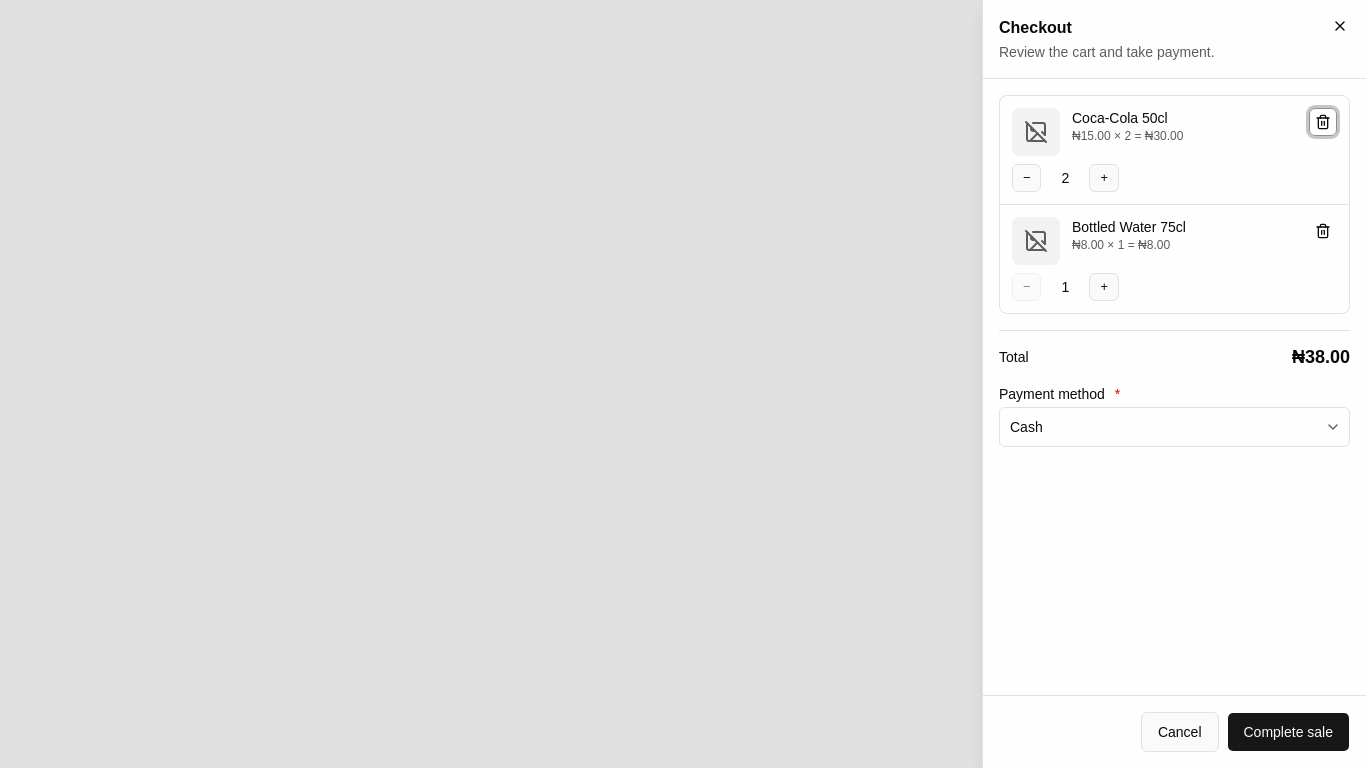
Test case: CheckoutDrawer › puts a payment account error on the account field
Click the dropdown named "Payment method".
click(1026, 427)  # box [999, 407, 1350, 447]
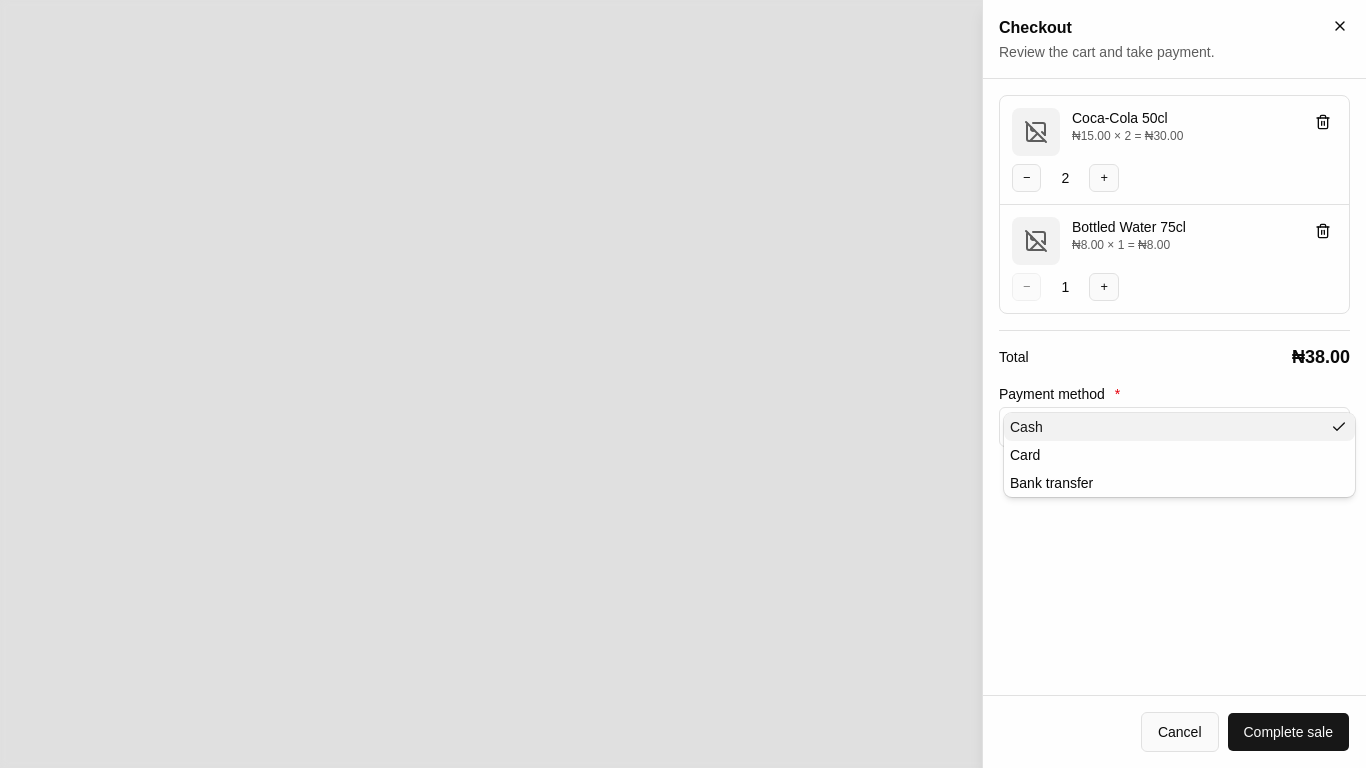
Click the option "Card".
click(1025, 455)  # box [1010, 447, 1040, 463]
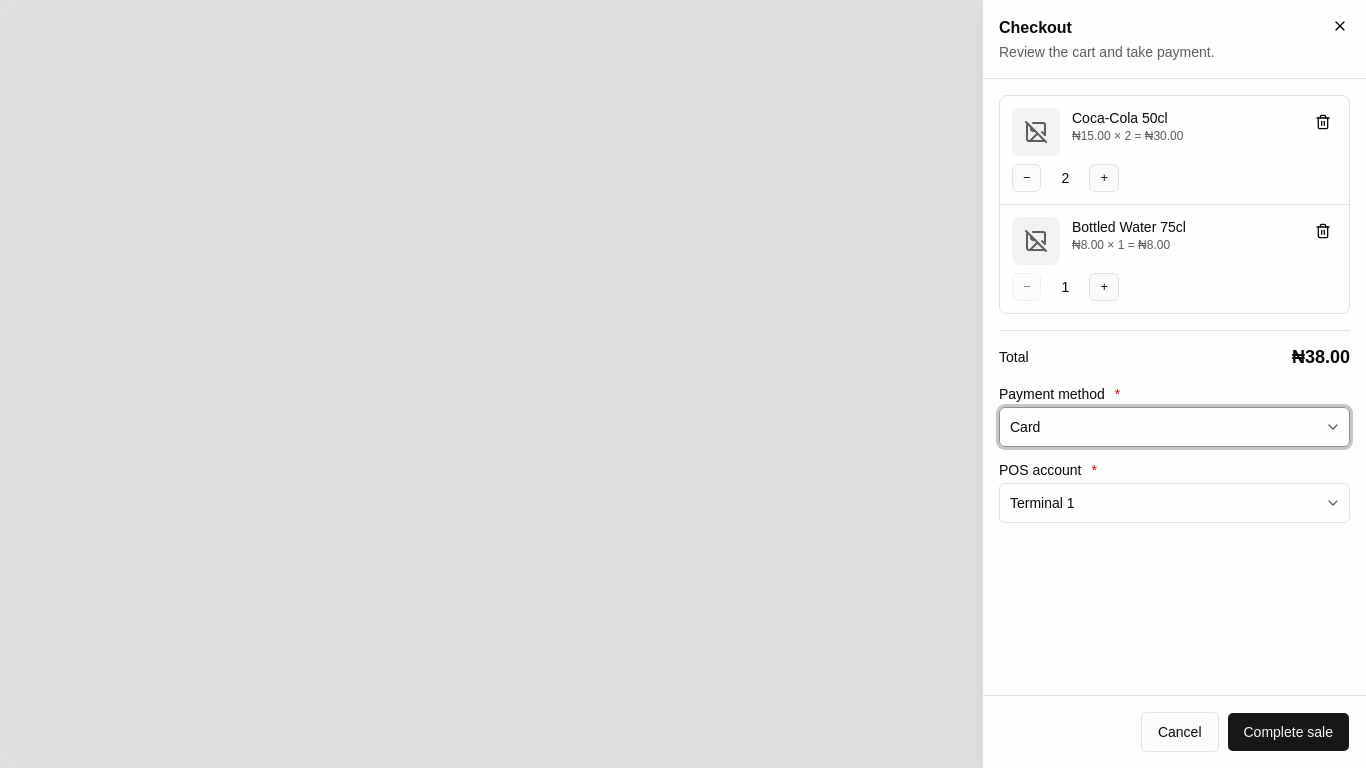
Click the button "Complete sale".
click(1288, 732)  # box [1226, 712, 1350, 752]
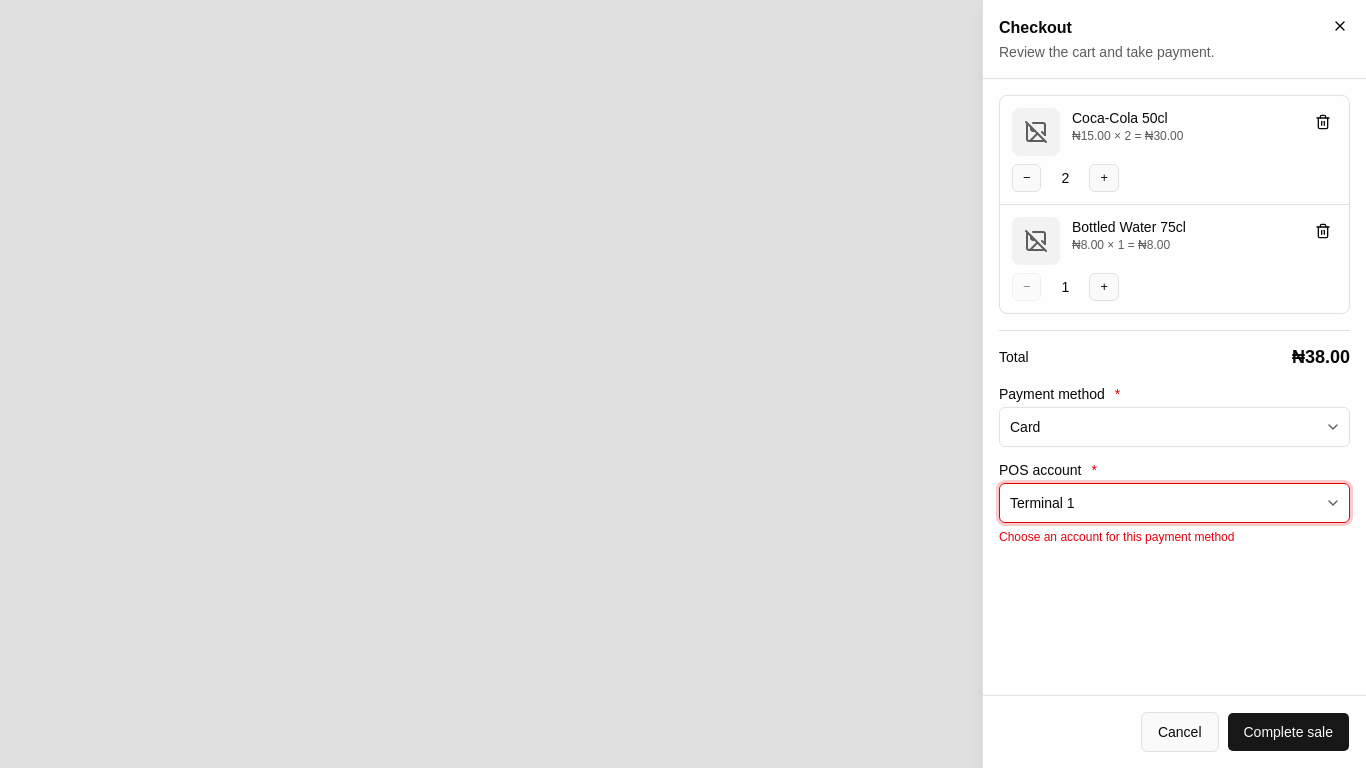
Now the text "Choose an account for this payment method" is shown, box [999, 530, 1234, 544]
